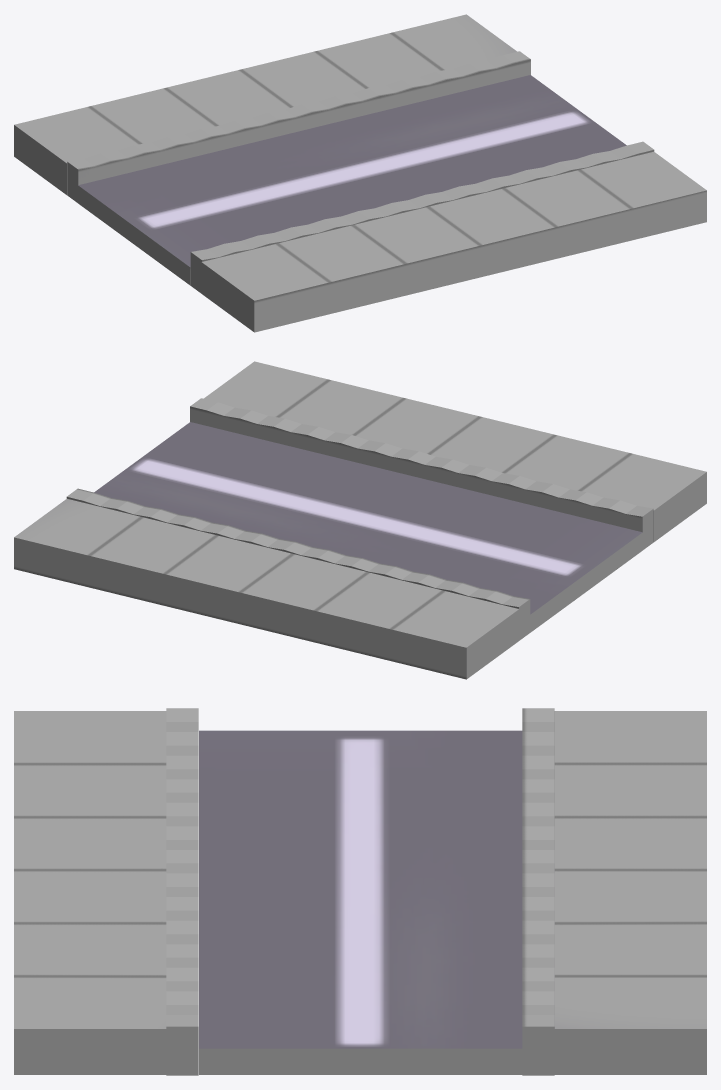
File: Road.fbx
3 renders of one model, top to bottom at view 1: azimuth 30°, elevation 25°; view 2: azimuth 150°, elevation 25°; view 3: azimuth 270°, elevation 25°, orthographic. The views are drawn at different scales.
Parts seen in each view (by area): view 1: Torn.001; view 2: Torn.001; view 3: Torn.001.
Part boxes in pixels (left/top/right/bottom): Torn.001: left=14, top=14, right=706, bottom=332; Torn.001: left=14, top=361, right=706, bottom=679; Torn.001: left=14, top=708, right=706, bottom=1075.
Size of the model in its own units: 1617 by 116 by 1487.
